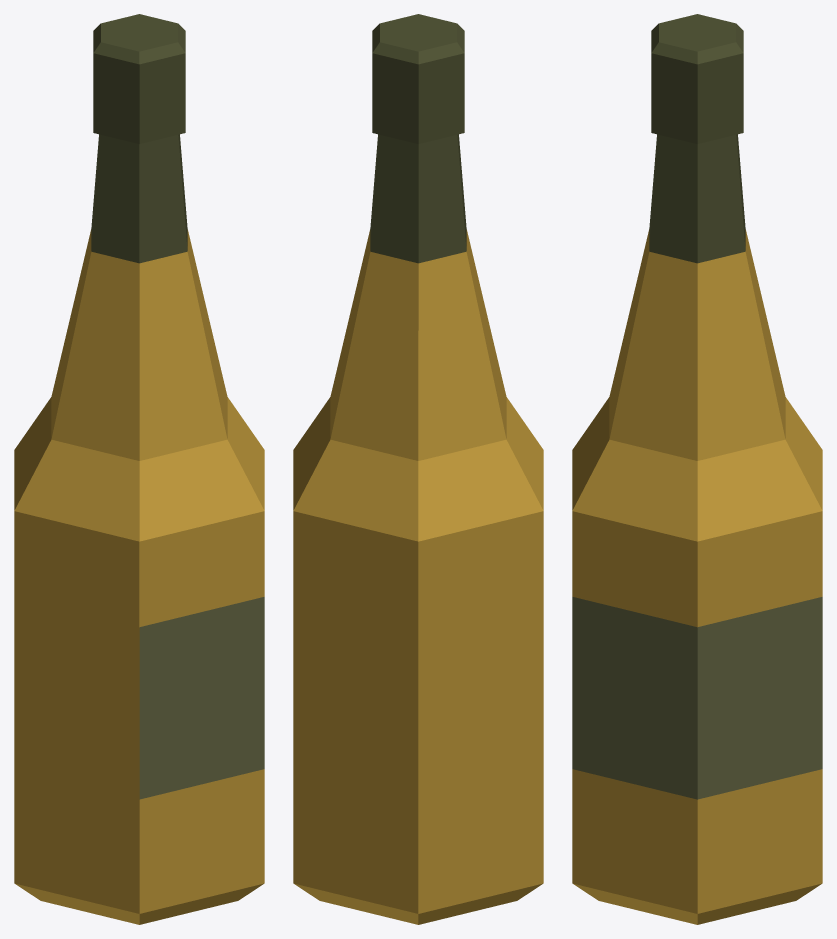
File: model_bottle_03.fbx
3 views of the same model, side by side, from view 1: azimuth 30°, elevation 25°; view 2: azimuth 150°, elevation 25°; view 3: azimuth 270°, elevation 25° (orthographic).
Parts seen in each view (by area): view 1: model_bottle_03; view 2: model_bottle_03; view 3: model_bottle_03.
Part boxes in pixels (x1,y1,x2,y2): model_bottle_03: (14,14,264,924); model_bottle_03: (293,14,543,924); model_bottle_03: (572,14,822,924).
Size of the model in its own units: 14.88 by 47.91 by 12.88.
1 material, 1 textured.
